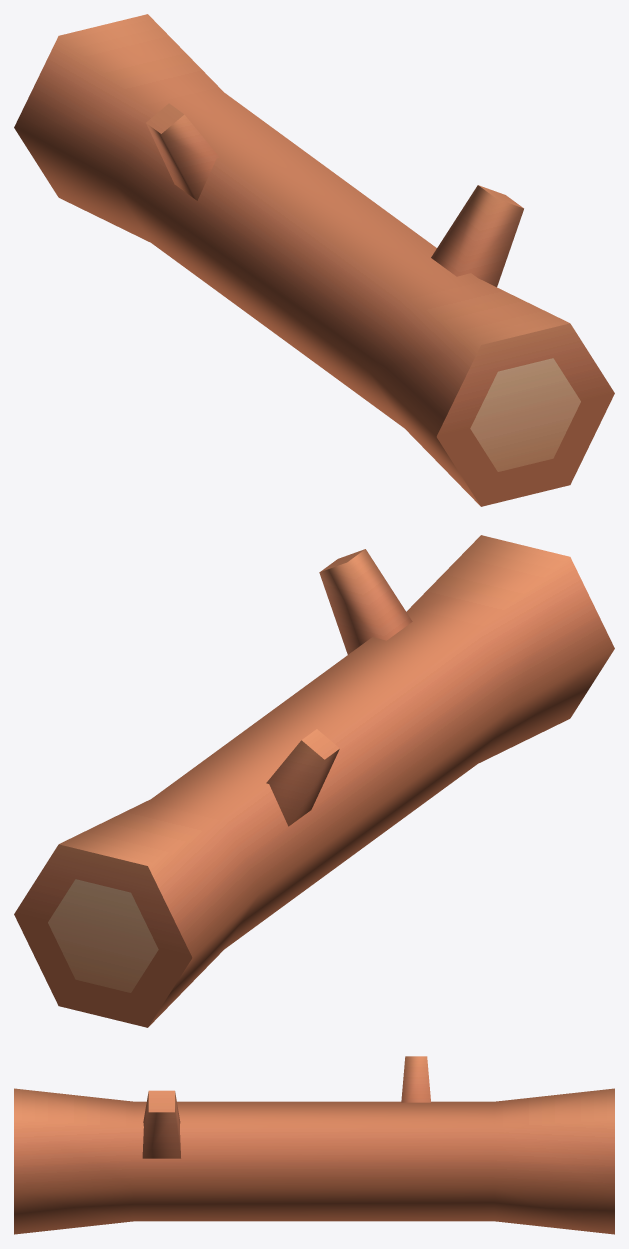
Rendered from tree-log.glb.
The picture shows the model from 3 angles, top to bottom: view 1: azimuth 30°, elevation 25°; view 2: azimuth 150°, elevation 25°; view 3: azimuth 270°, elevation 25°; orthographic projection. The views are drawn at different scales.
Parts seen in each view (by area): view 1: tree-log; view 2: tree-log; view 3: tree-log.
Part boxes in pixels (<box>): tree-log: <box>14,14,614,506</box>; tree-log: <box>14,535,614,1027</box>; tree-log: <box>14,1056,614,1234</box>.
Size of the model in its own units: 0.2495 by 0.2771 by 1.
1 material, 1 textured.
